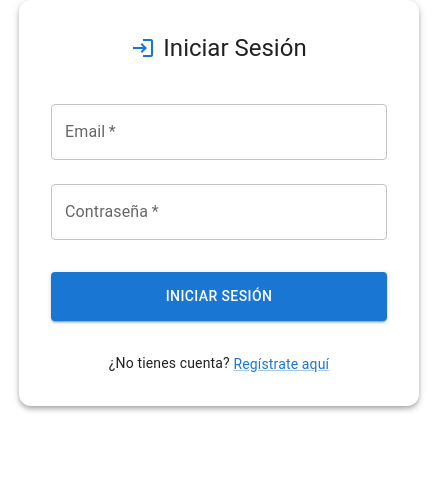
Test: Login Component › valida formato de email inválido
The width and height of the screenshot is (439, 493).
In the field labelled "Email *": [219, 132] box left=51, top=104, right=387, bottom=160, type "email-invalido"
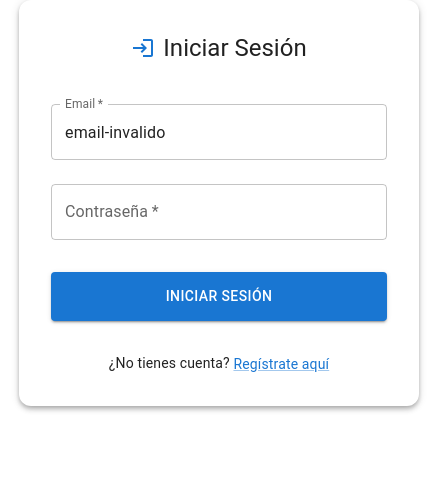
In the password field labelled "Contraseña *": [219, 212] box left=51, top=184, right=387, bottom=240, type "123456"
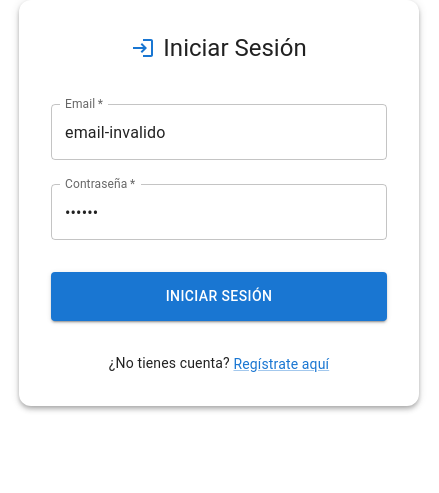
Click the button "Iniciar Sesión": [219, 296] box left=51, top=272, right=387, bottom=320
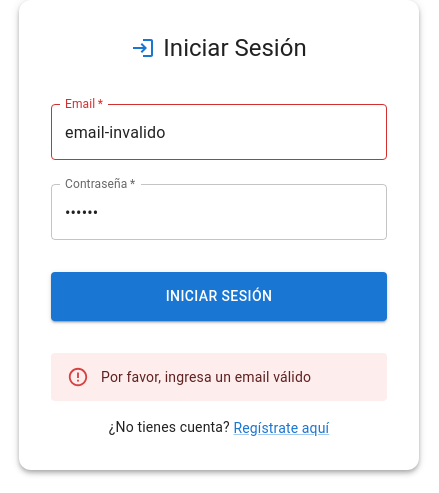
Check: the text "Por favor, ingresa un email válido" is shown, box left=101, top=368, right=311, bottom=384
